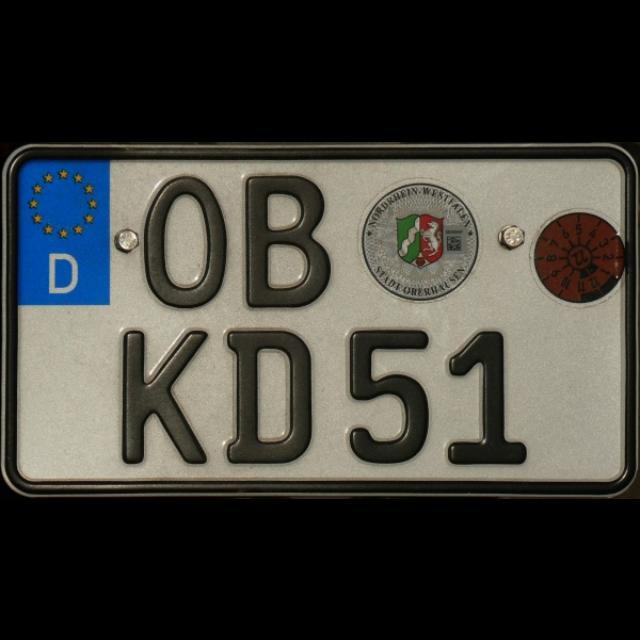license-plates: (1, 144, 640, 498)
